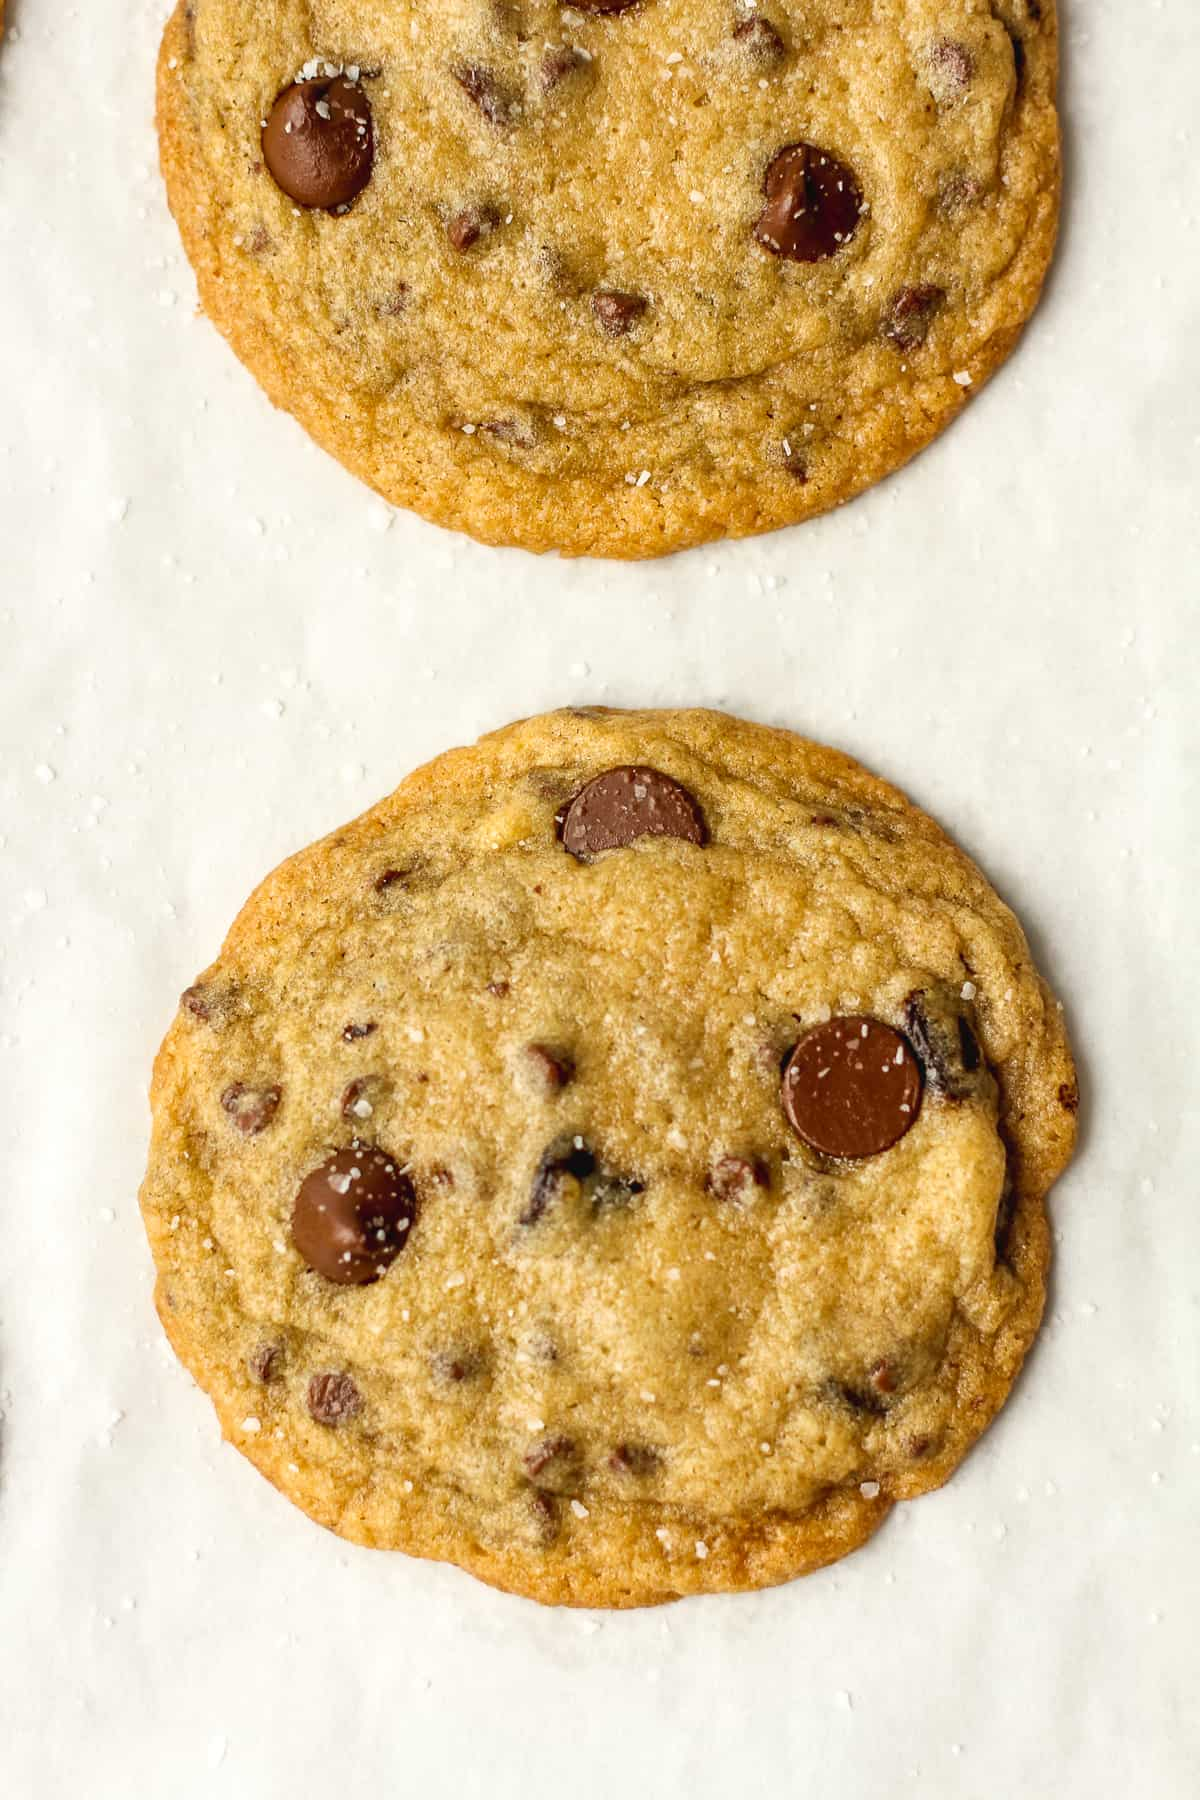cookie: (61, 668, 1136, 1654)
